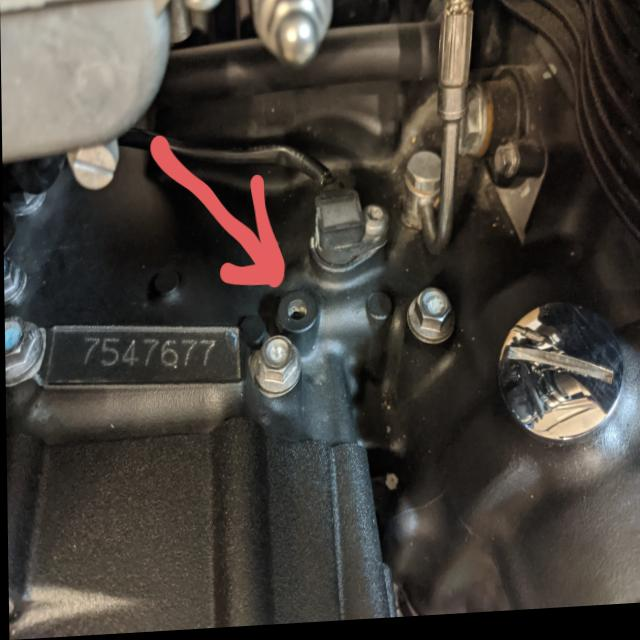Missing bolt: (284, 297, 317, 333)
Regular bolt: (256, 337, 298, 395), (413, 291, 456, 346), (5, 316, 37, 371), (493, 151, 516, 184), (4, 257, 19, 293)
